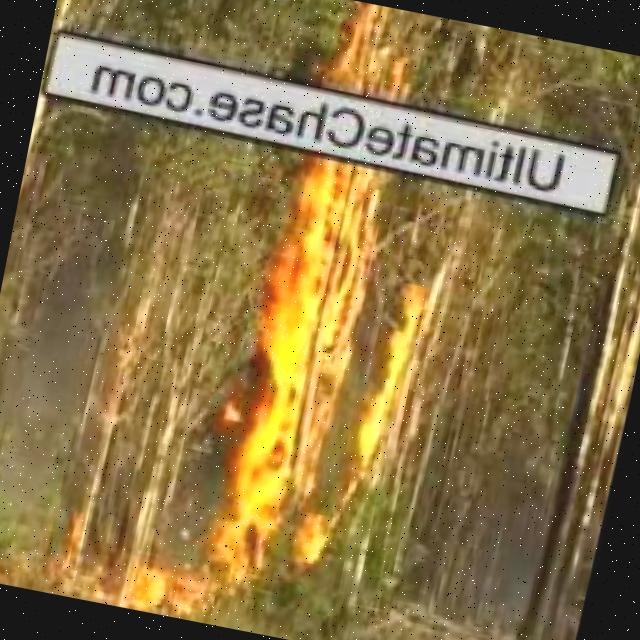fire: (192, 137, 480, 608), (317, 9, 428, 112), (116, 549, 241, 628)
